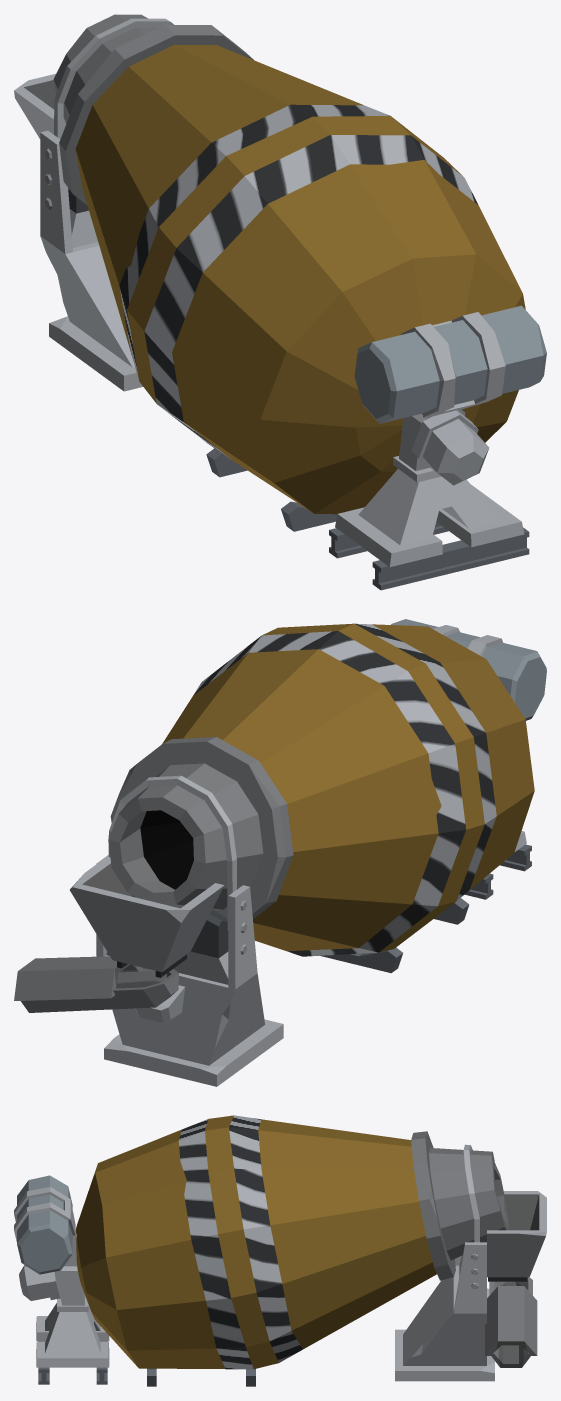
File: SM_Veh_Truck_01_ConcreteMixer.fbx
3 renders of one model, top to bottom at view 1: azimuth 30°, elevation 25°; view 2: azimuth 150°, elevation 25°; view 3: azimuth 270°, elevation 25°, orthographic. The views are drawn at different scales.
Parts seen in each view (by area): view 1: SM_Veh_Truck_01_ConcreteMixer_Mixer, SM_Veh_Truck_01_ConcreteMixer; view 2: SM_Veh_Truck_01_ConcreteMixer_Mixer, SM_Veh_Truck_01_ConcreteMixer, SM_Veh_Truck_01_ConcreteMixer_Chute_Extension, SM_Veh_Truck_01_ConcreteMixer_Chute; view 3: SM_Veh_Truck_01_ConcreteMixer_Mixer, SM_Veh_Truck_01_ConcreteMixer, SM_Veh_Truck_01_ConcreteMixer_Chute_Extension, SM_Veh_Truck_01_ConcreteMixer_Chute.
Boxes of the visible parts, box(x1,y1,x2,y2) form: SM_Veh_Truck_01_ConcreteMixer_Mixer: box(53, 14, 525, 514); SM_Veh_Truck_01_ConcreteMixer: box(14, 18, 546, 590); SM_Veh_Truck_01_ConcreteMixer_Mixer: box(108, 623, 534, 956); SM_Veh_Truck_01_ConcreteMixer: box(70, 619, 546, 1086); SM_Veh_Truck_01_ConcreteMixer_Chute_Extension: box(14, 956, 142, 1000); SM_Veh_Truck_01_ConcreteMixer_Chute: box(21, 969, 178, 1012); SM_Veh_Truck_01_ConcreteMixer_Mixer: box(76, 1115, 508, 1369); SM_Veh_Truck_01_ConcreteMixer: box(14, 1144, 546, 1386); SM_Veh_Truck_01_ConcreteMixer_Chute_Extension: box(485, 1286, 537, 1355); SM_Veh_Truck_01_ConcreteMixer_Chute: box(489, 1277, 532, 1367).
Bounding box in the file's own units: 321 × 323 × 669.
